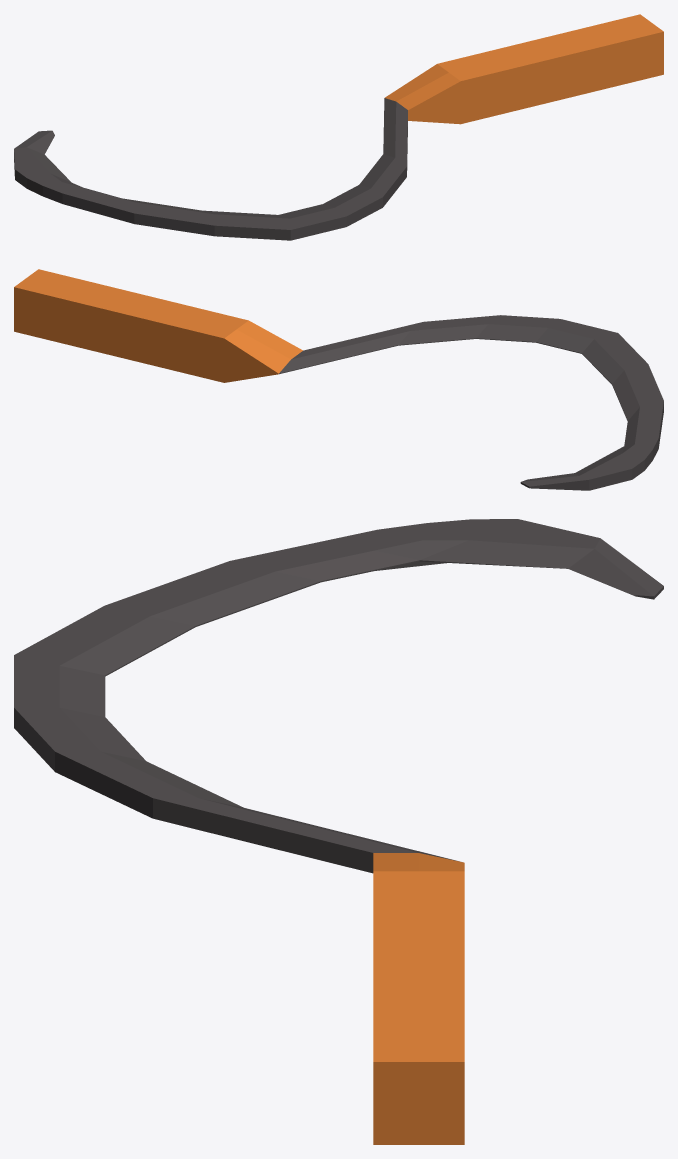
The model's file is iron_sicle.glb.
3 views of the same model, one above another, from view 1: azimuth 30°, elevation 25°; view 2: azimuth 150°, elevation 25°; view 3: azimuth 270°, elevation 25° (orthographic). The views are drawn at different scales.
Visible parts, largest first — view 1: Cube; view 2: Cube; view 3: Cube.
Boxes of the visible parts, x1,y1,x2,y2 form: Cube: [14, 14, 663, 240]; Cube: [14, 269, 663, 490]; Cube: [14, 519, 663, 1144].
Size of the model in its own units: 11.6 by 0.7803 by 5.55.
